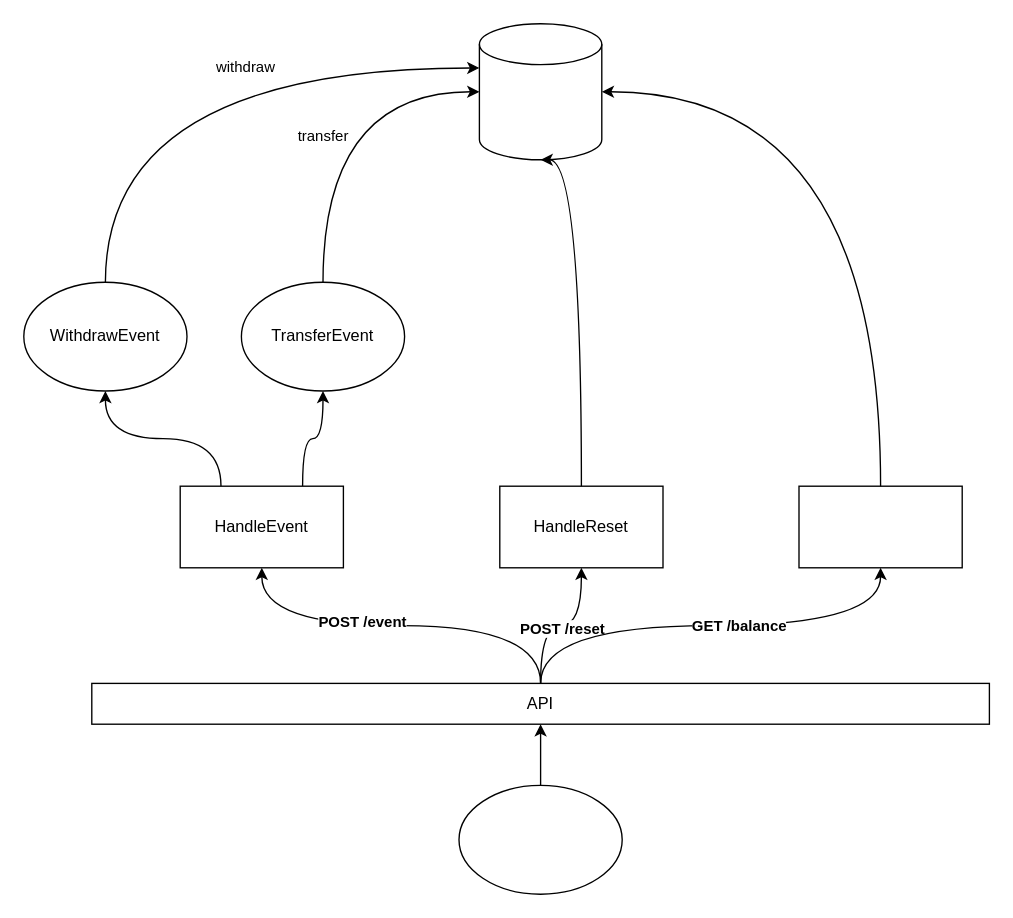
Some shapes in this 1013 by 918 pixel diagram are drawn without their labels. Each missing label, with the centre of its shape:
Client: pixel 540 839
HandleBalance: pixel 880 526
MySQL: pixel 540 91
